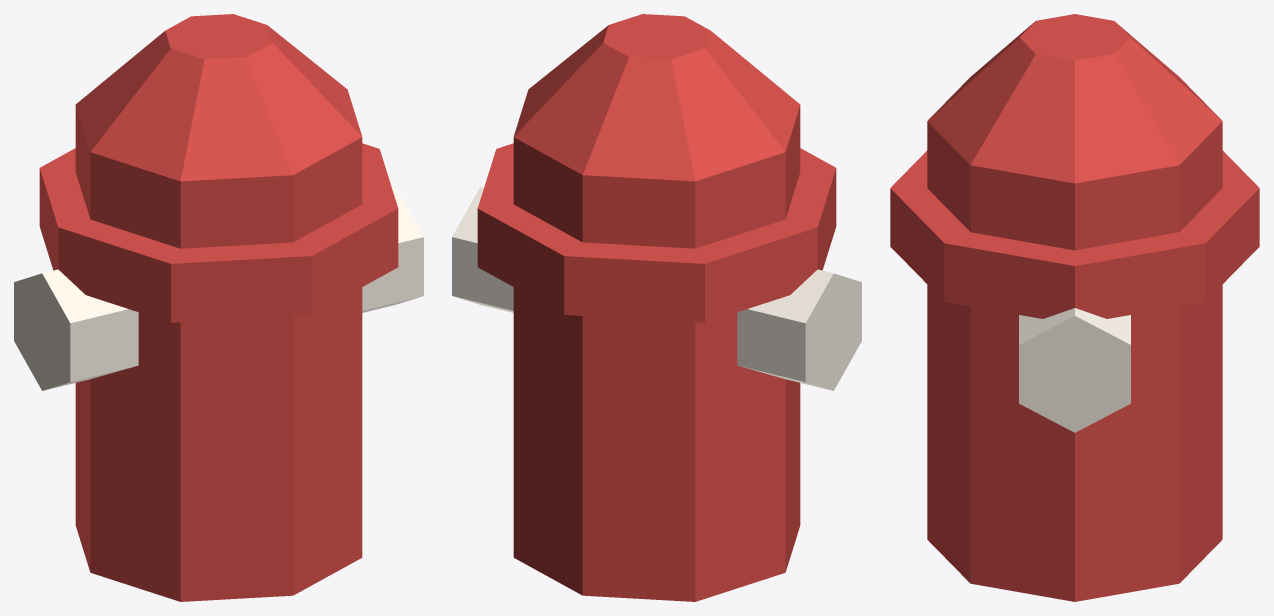
Rendered from prop_hydrant.glb.
The picture shows the model from 3 angles, left to right: view 1: azimuth 30°, elevation 25°; view 2: azimuth 150°, elevation 25°; view 3: azimuth 270°, elevation 25°; orthographic projection.
Visible parts, largest first — view 1: prop_hydrant; view 2: prop_hydrant; view 3: prop_hydrant.
Part boxes in pixels (bbox=[...]): prop_hydrant: bbox=[14, 14, 423, 601]; prop_hydrant: bbox=[452, 14, 861, 601]; prop_hydrant: bbox=[890, 14, 1259, 601].
Size of the model in its own units: 0.044 by 0.06 by 0.04.
